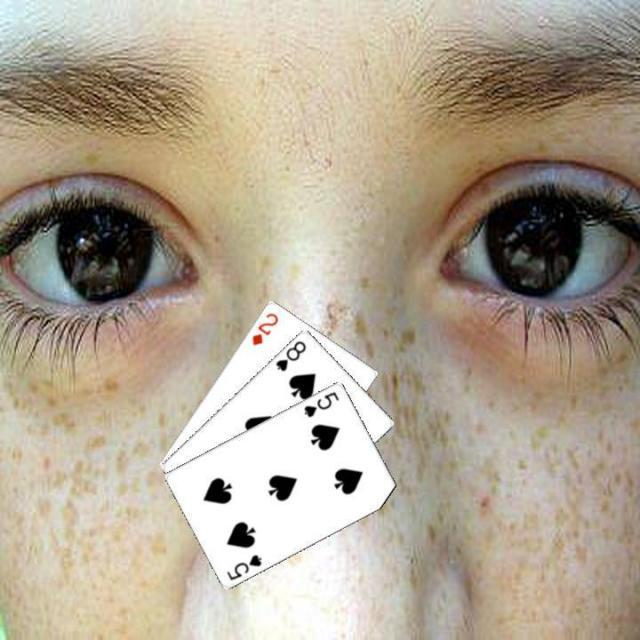2D: (248, 308, 280, 346)
5S: (223, 550, 264, 582), (300, 388, 340, 418)
8S: (271, 336, 308, 372)
